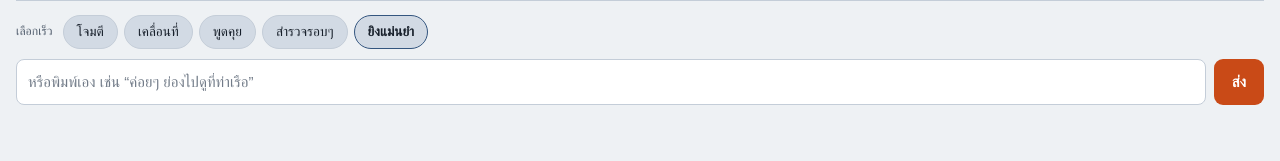
Test: ActionInput › class ability button › submits an ability that needs no target in one tap and then locks the dock
Click the button "ยิงแม่นยำ". click: (391, 32)
box: [354,15,428,49]
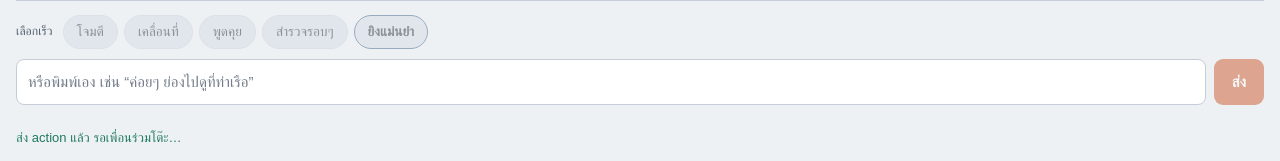
expect the text "ส่ง action แล้ว รอเพื่อนร่วมโต๊ะ…" is shown: met, box [16,130,182,145]
expect the button "โจมตี" is disabled: met, box [63,15,118,49]
